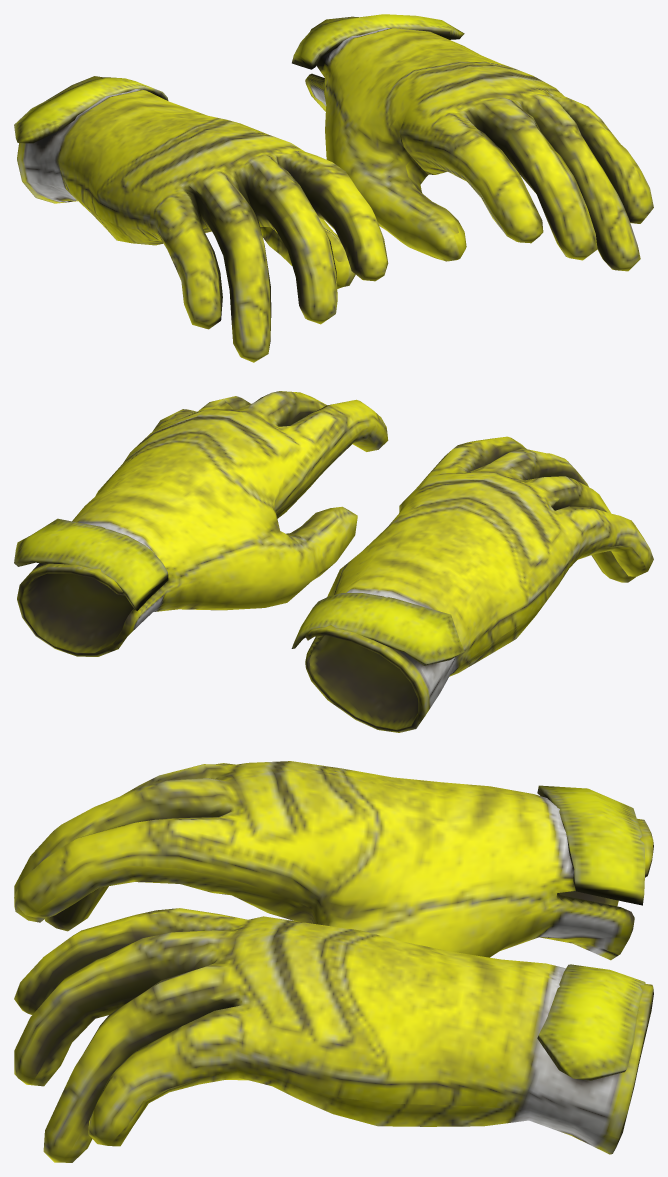
File: Guantes.FBX
3 renders of one model, top to bottom at view 1: azimuth 30°, elevation 25°; view 2: azimuth 150°, elevation 25°; view 3: azimuth 270°, elevation 25°, orthographic. The views are drawn at different scales.
Parts seen in each view (by area): view 1: Guanteizq, Guander; view 2: Guanteizq, Guander; view 3: Guanteizq, Guander.
Part boxes in pixels (x1,y1,x2,y2): Guanteizq: (292, 14, 653, 271); Guander: (14, 76, 388, 362); Guanteizq: (14, 391, 388, 656); Guander: (291, 436, 653, 732); Guanteizq: (14, 908, 653, 1162); Guander: (14, 761, 653, 960).
Bounding box in the file's own units: 11.48 × 3.58 × 10.64.
